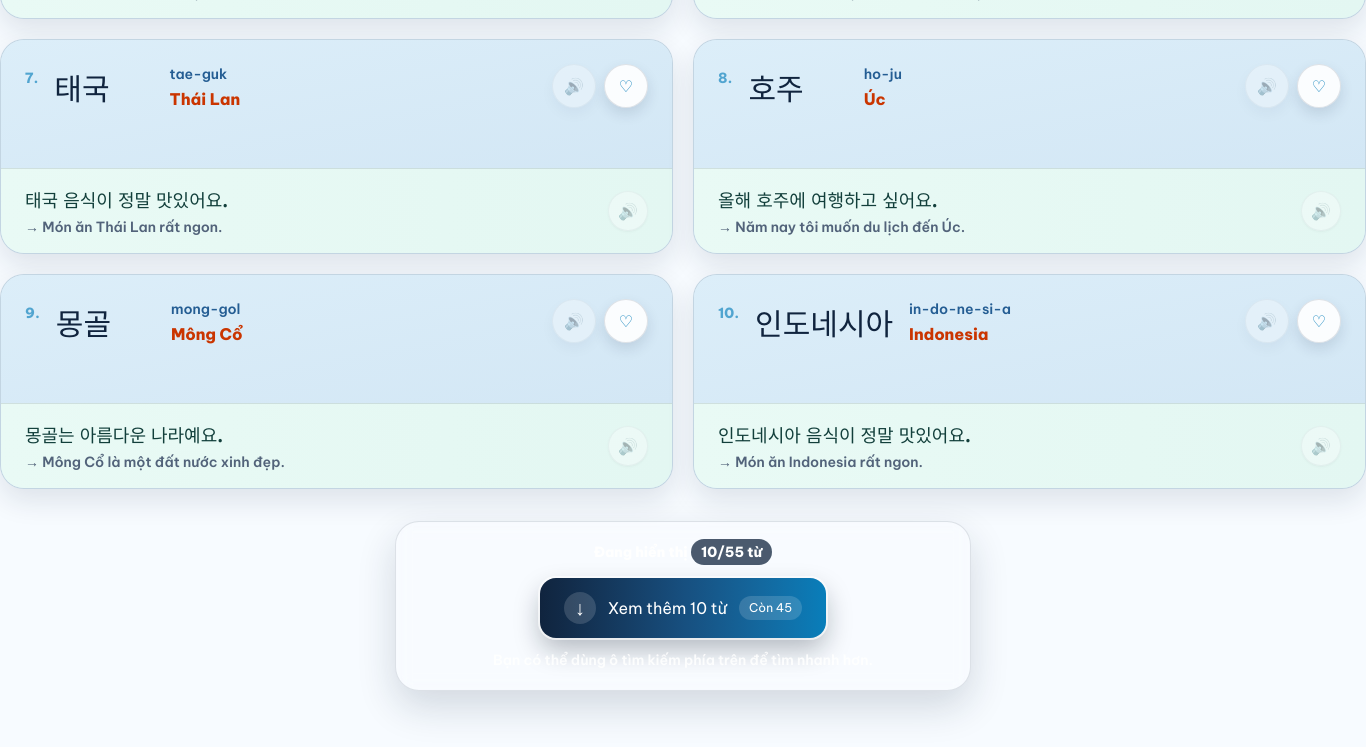
VocabularyList › chỉ hiện 10 từ đầu và cho xem thêm từng 10 từ
(page scrolled)
Expected: the text "10/55 từ" is shown, top-left (691, 539), bottom-right (772, 565)
Click the button with aria-label "Xem thêm 10 từ ↓". click: coordinates (683, 608)
box: top-left (540, 578), bottom-right (826, 638)
(page scrolled)
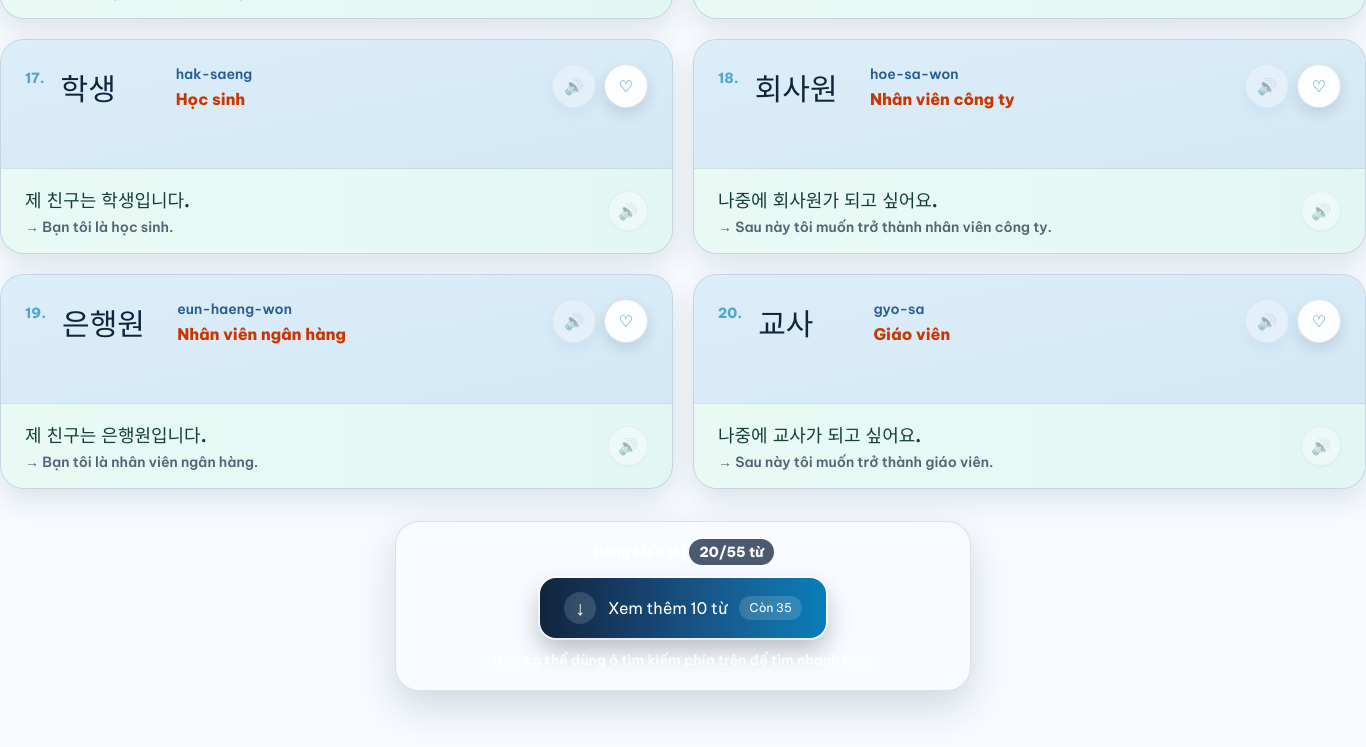
Expected: the text "20/55 từ" is shown, top-left (689, 539), bottom-right (774, 565)
